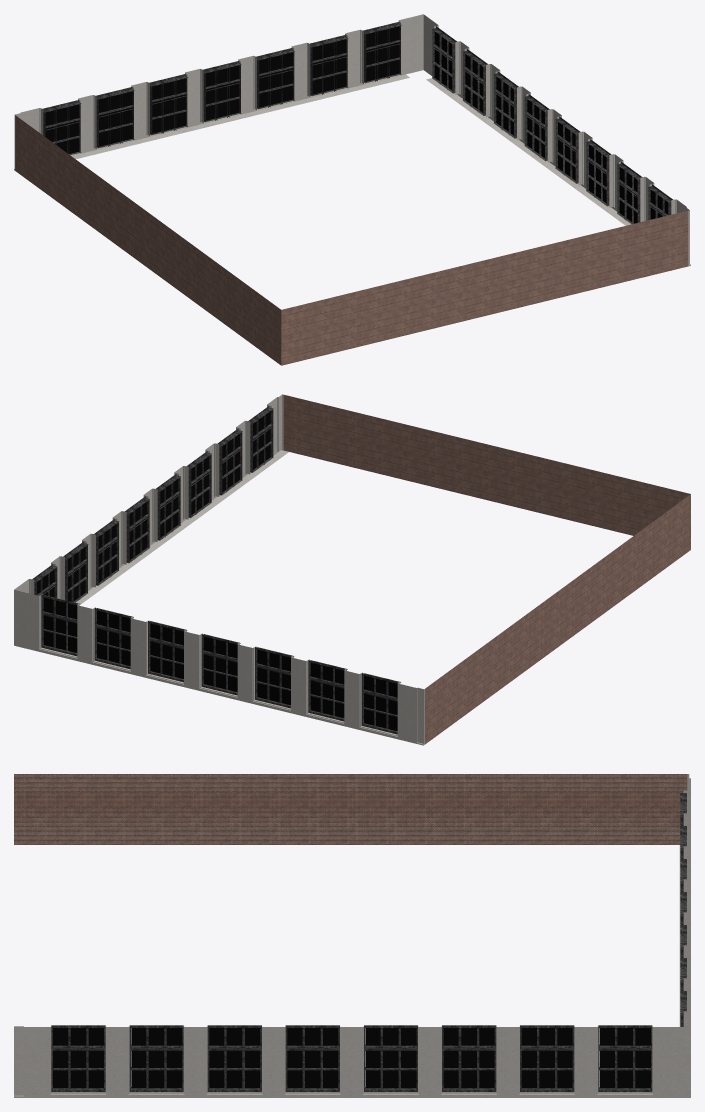
The model's file is BuildingC_MId_Shell_VarB.fbx.
The picture shows the model from 3 angles, top to bottom: view 1: azimuth 30°, elevation 25°; view 2: azimuth 150°, elevation 25°; view 3: azimuth 270°, elevation 25°; orthographic projection. The views are drawn at different scales.
Parts seen in each view (by area): view 1: BuildingC_MId_Shell_VarB; view 2: BuildingC_MId_Shell_VarB; view 3: BuildingC_MId_Shell_VarB.
Boxes of the visible parts, x1,y1,x2,y2 form: BuildingC_MId_Shell_VarB: (14,14,690,365); BuildingC_MId_Shell_VarB: (14,394,690,745); BuildingC_MId_Shell_VarB: (14,774,690,1097).
Bounding box in the file's own units: 2300 × 300 × 2600.
